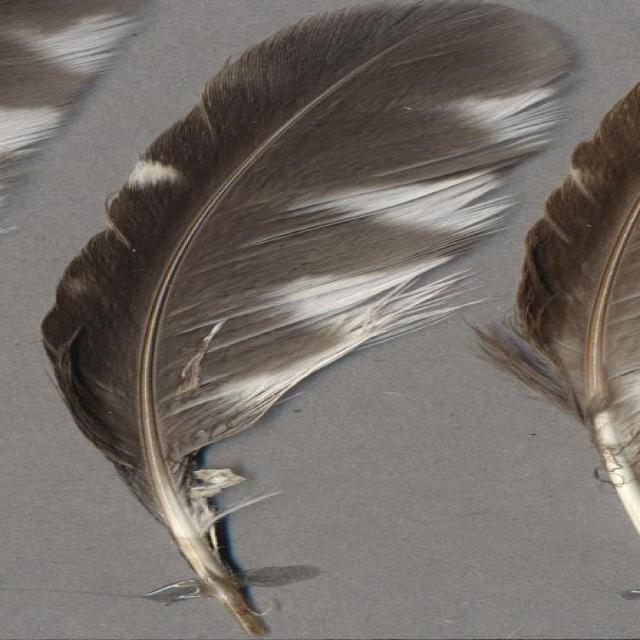feather: (47, 0, 599, 635)
